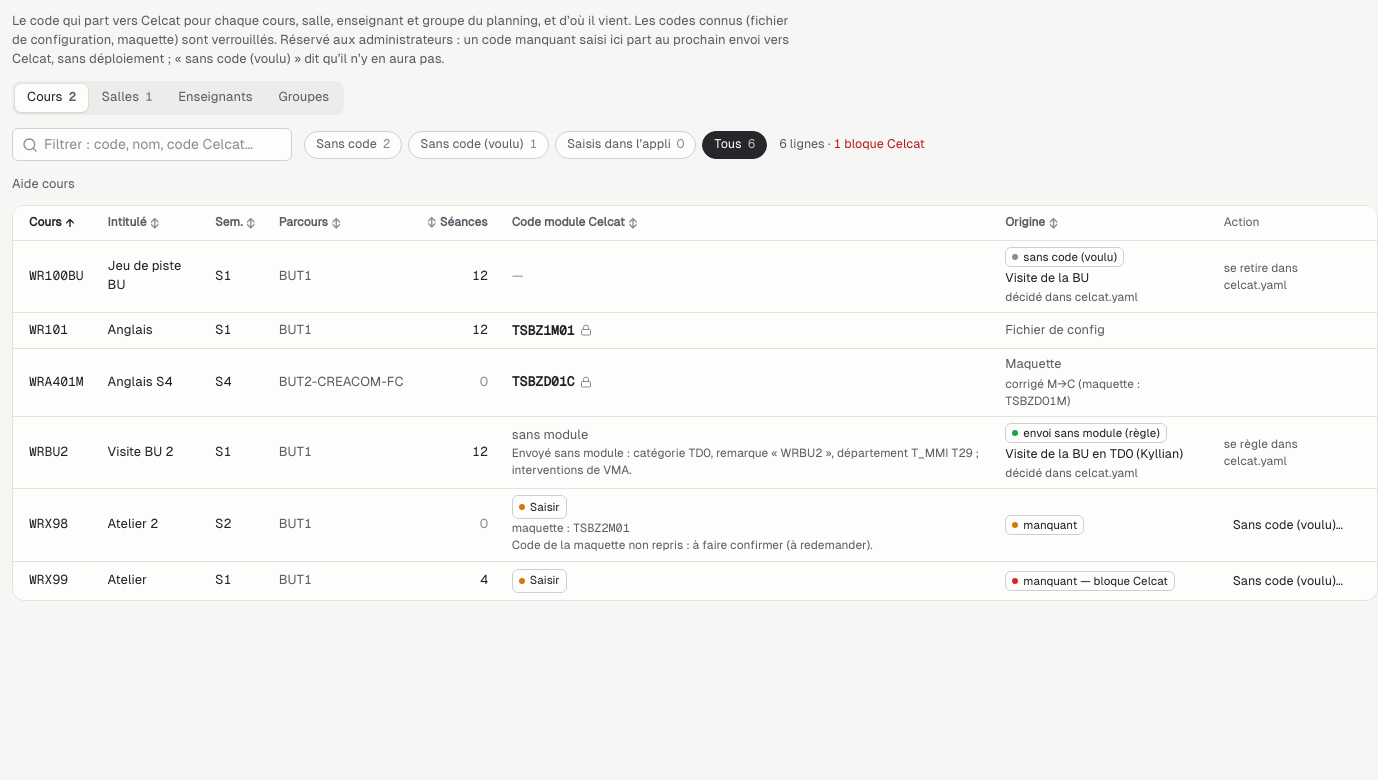
Test: Référence — Codes Celcat › filtres « Sans code » et « Sans code (voulu) »
Expected: the text "WR101" is shown, [13,312,96,348]
Click the button "Sans code 2" at (353, 144), box [304,130,402,158]
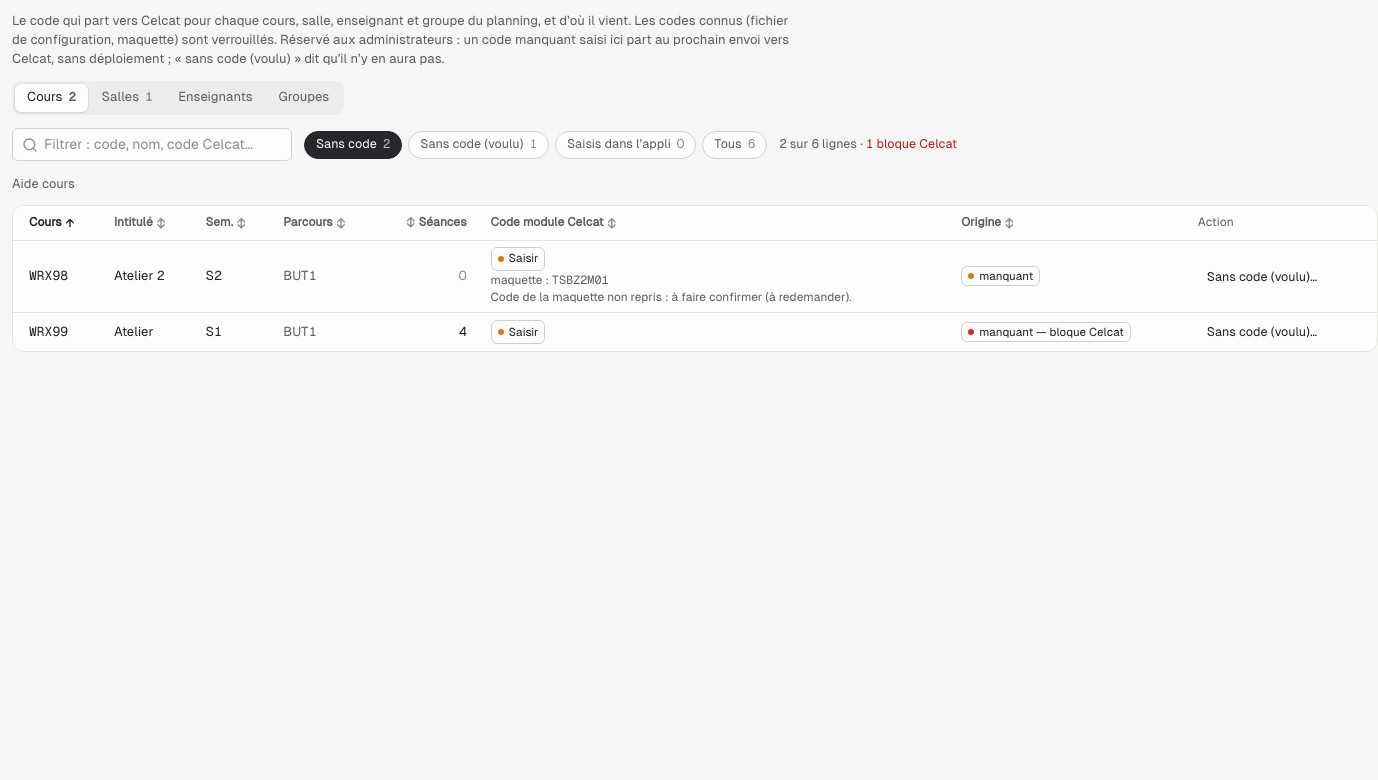
Expected: the text "WRX99" is shown, [13,312,102,351]
Expected: the text "WR101" is gone
Expected: the text "WR100BU" is gone
Type "atelier 2" into the search field named "Filtrer les cours" at (152, 145), box [12,128,292,161]
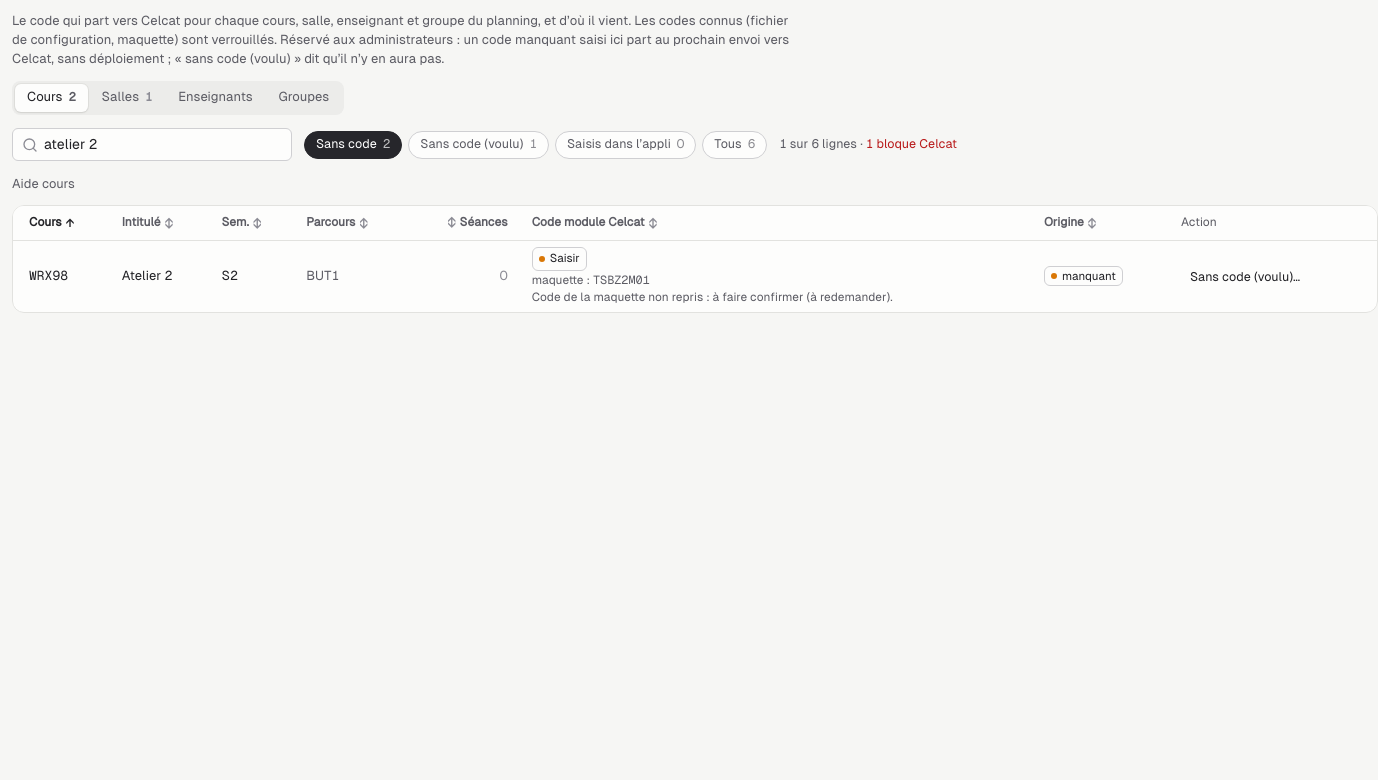
Expected: the text "WRX98" is shown, [13,240,110,312]
Expected: the text "WRX99" is gone
Clear the search field named "Filtrer les cours" at (152, 145), box [12,128,292,161]
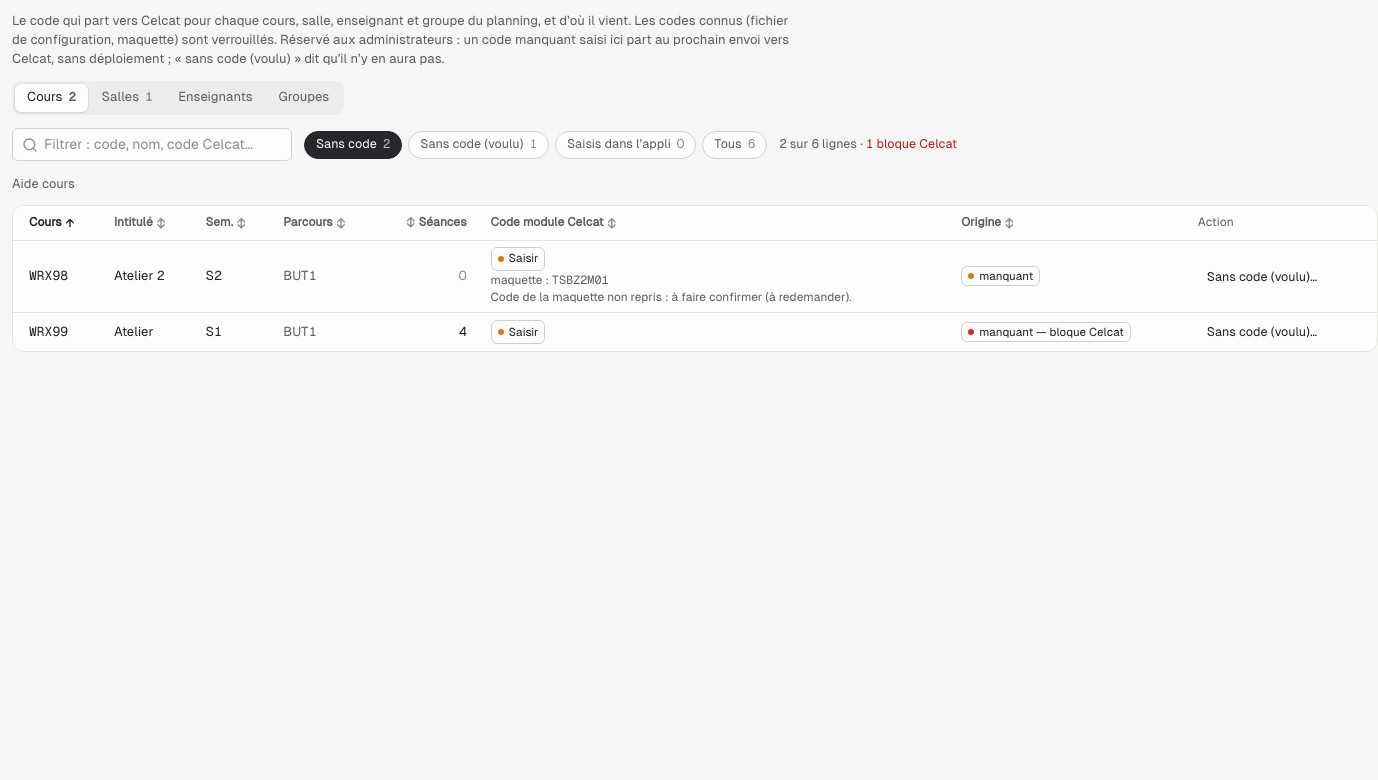
Click the button "Sans code (voulu) 1" at (479, 144), box [408,130,549,158]
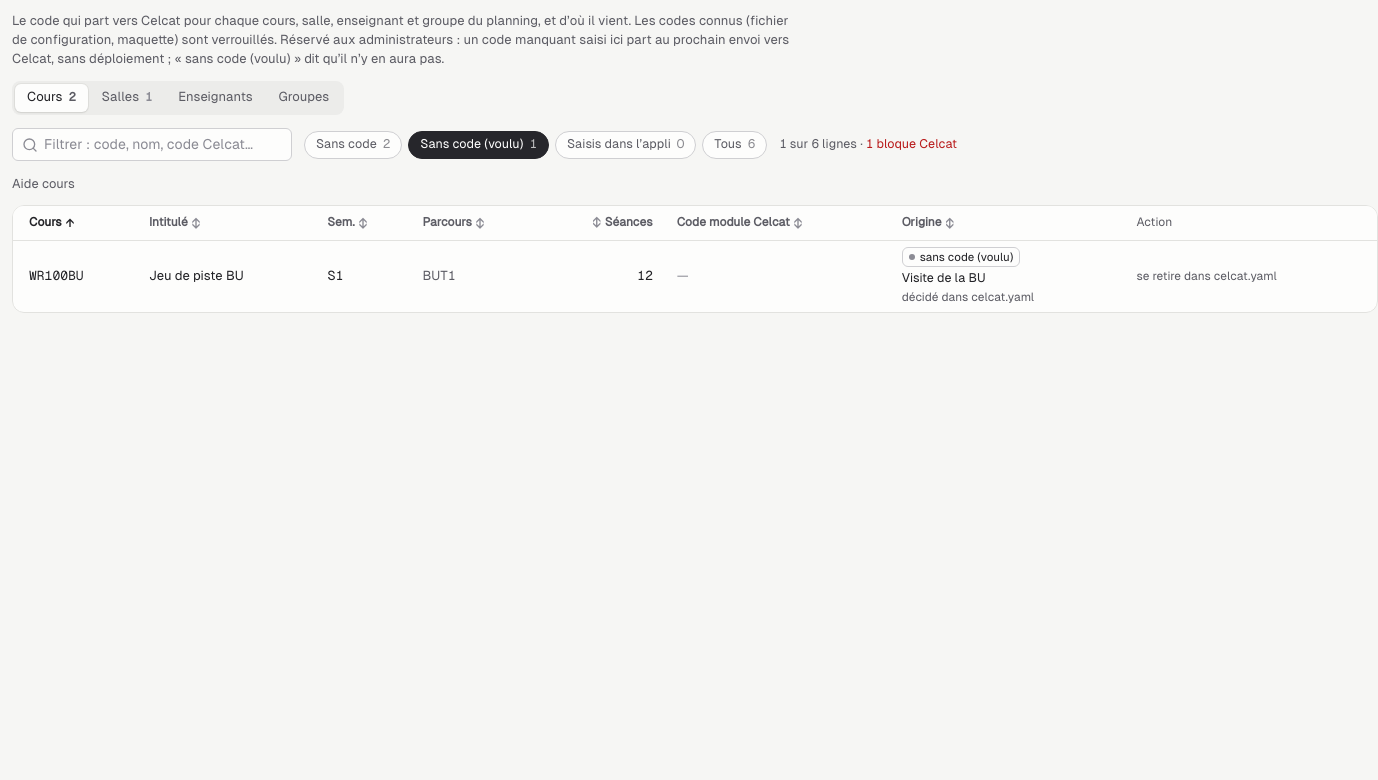
Expected: the text "WR100BU" is shown, [13,240,137,312]
Expected: the text "Visite de la BU" is shown, [902,269,986,287]
Expected: the text "décidé dans celcat.yaml" is shown, [902,289,1034,306]
